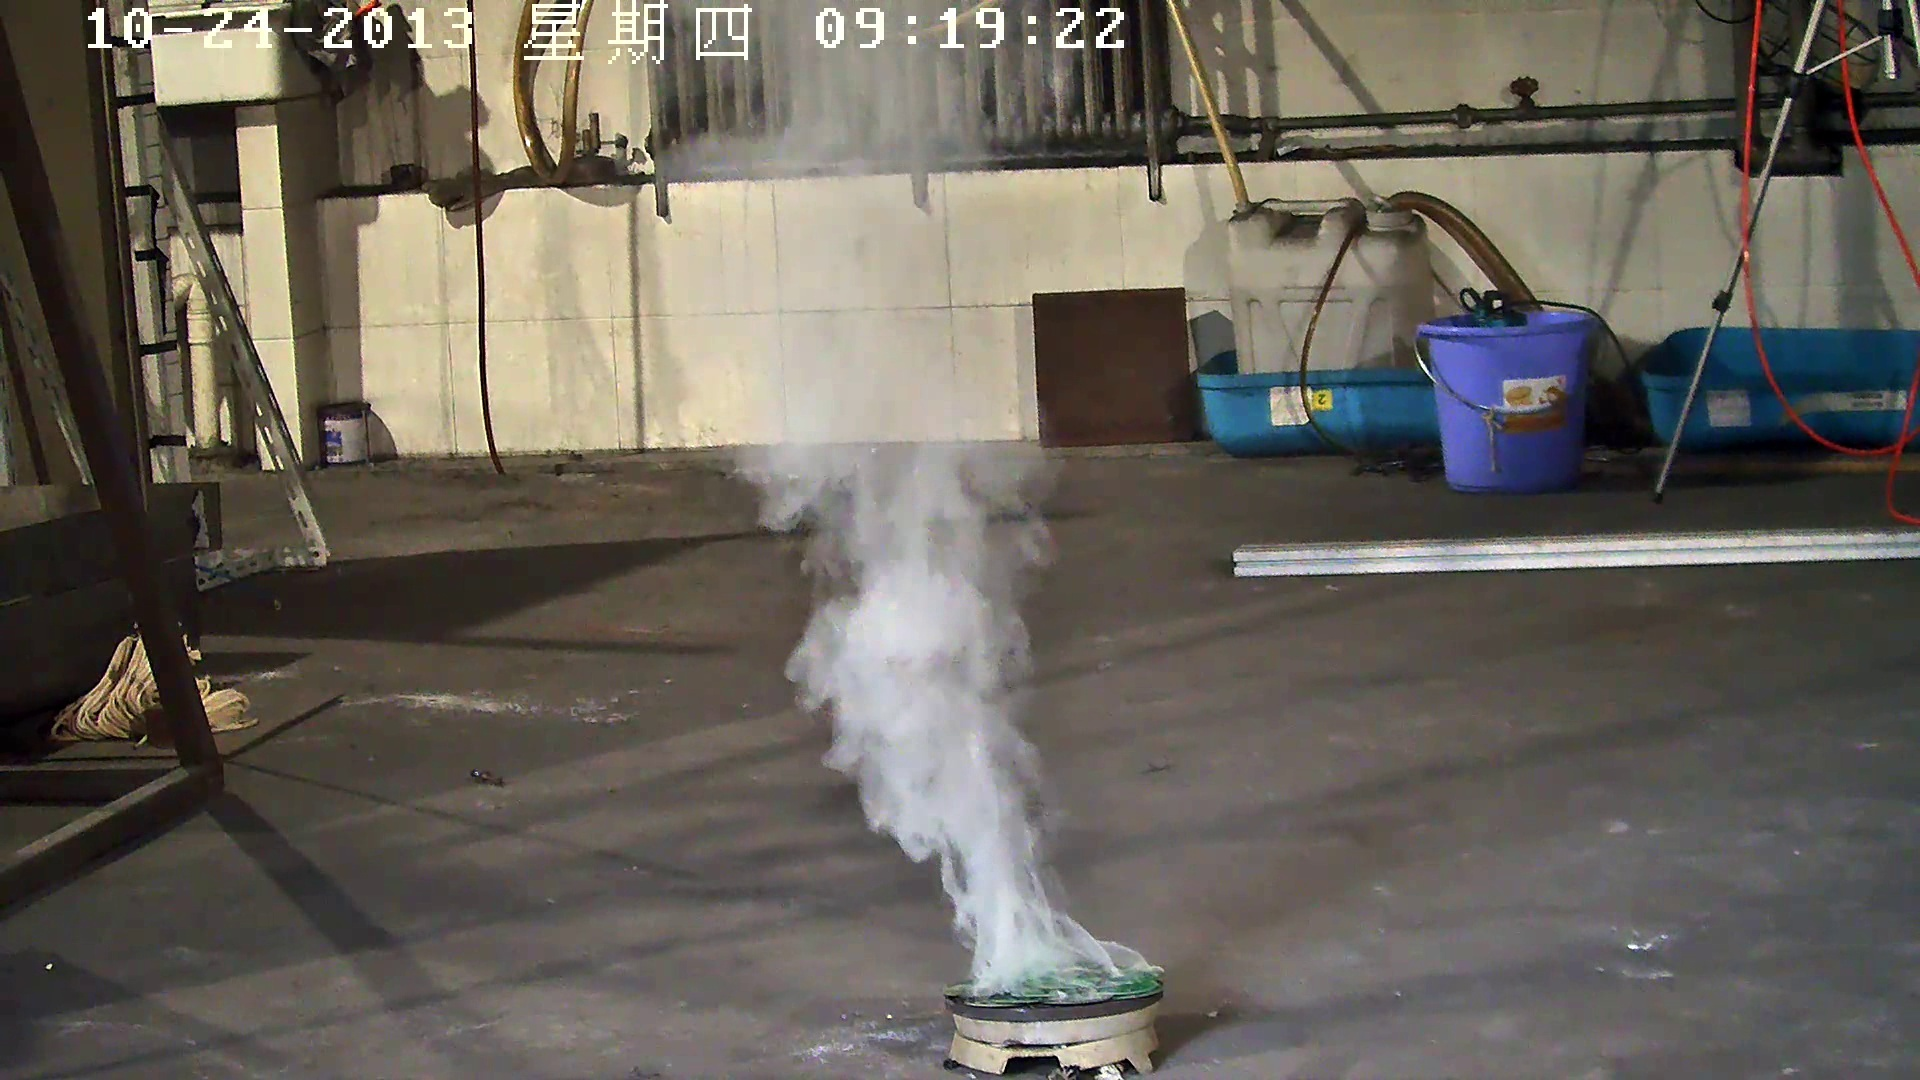smoke: (618, 22, 1167, 992)
